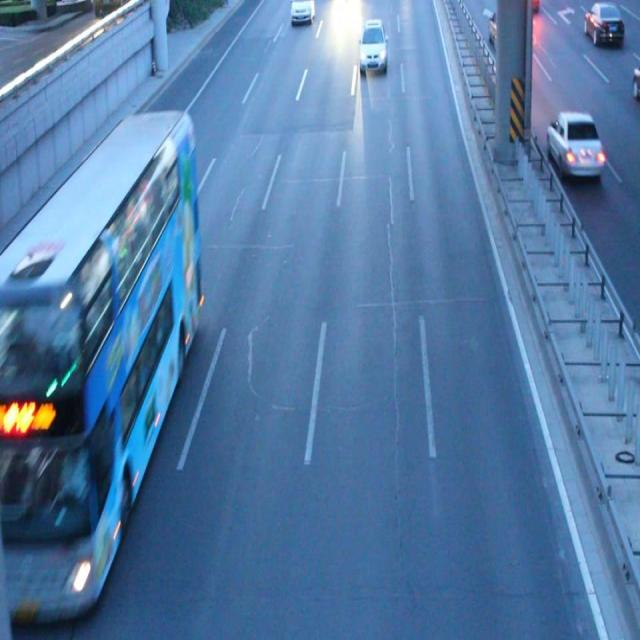car: (547, 111, 604, 178), (582, 2, 622, 48), (358, 24, 386, 71), (486, 13, 513, 52), (290, 1, 314, 24), (516, 1, 537, 17)
van: (1, 112, 201, 599)
